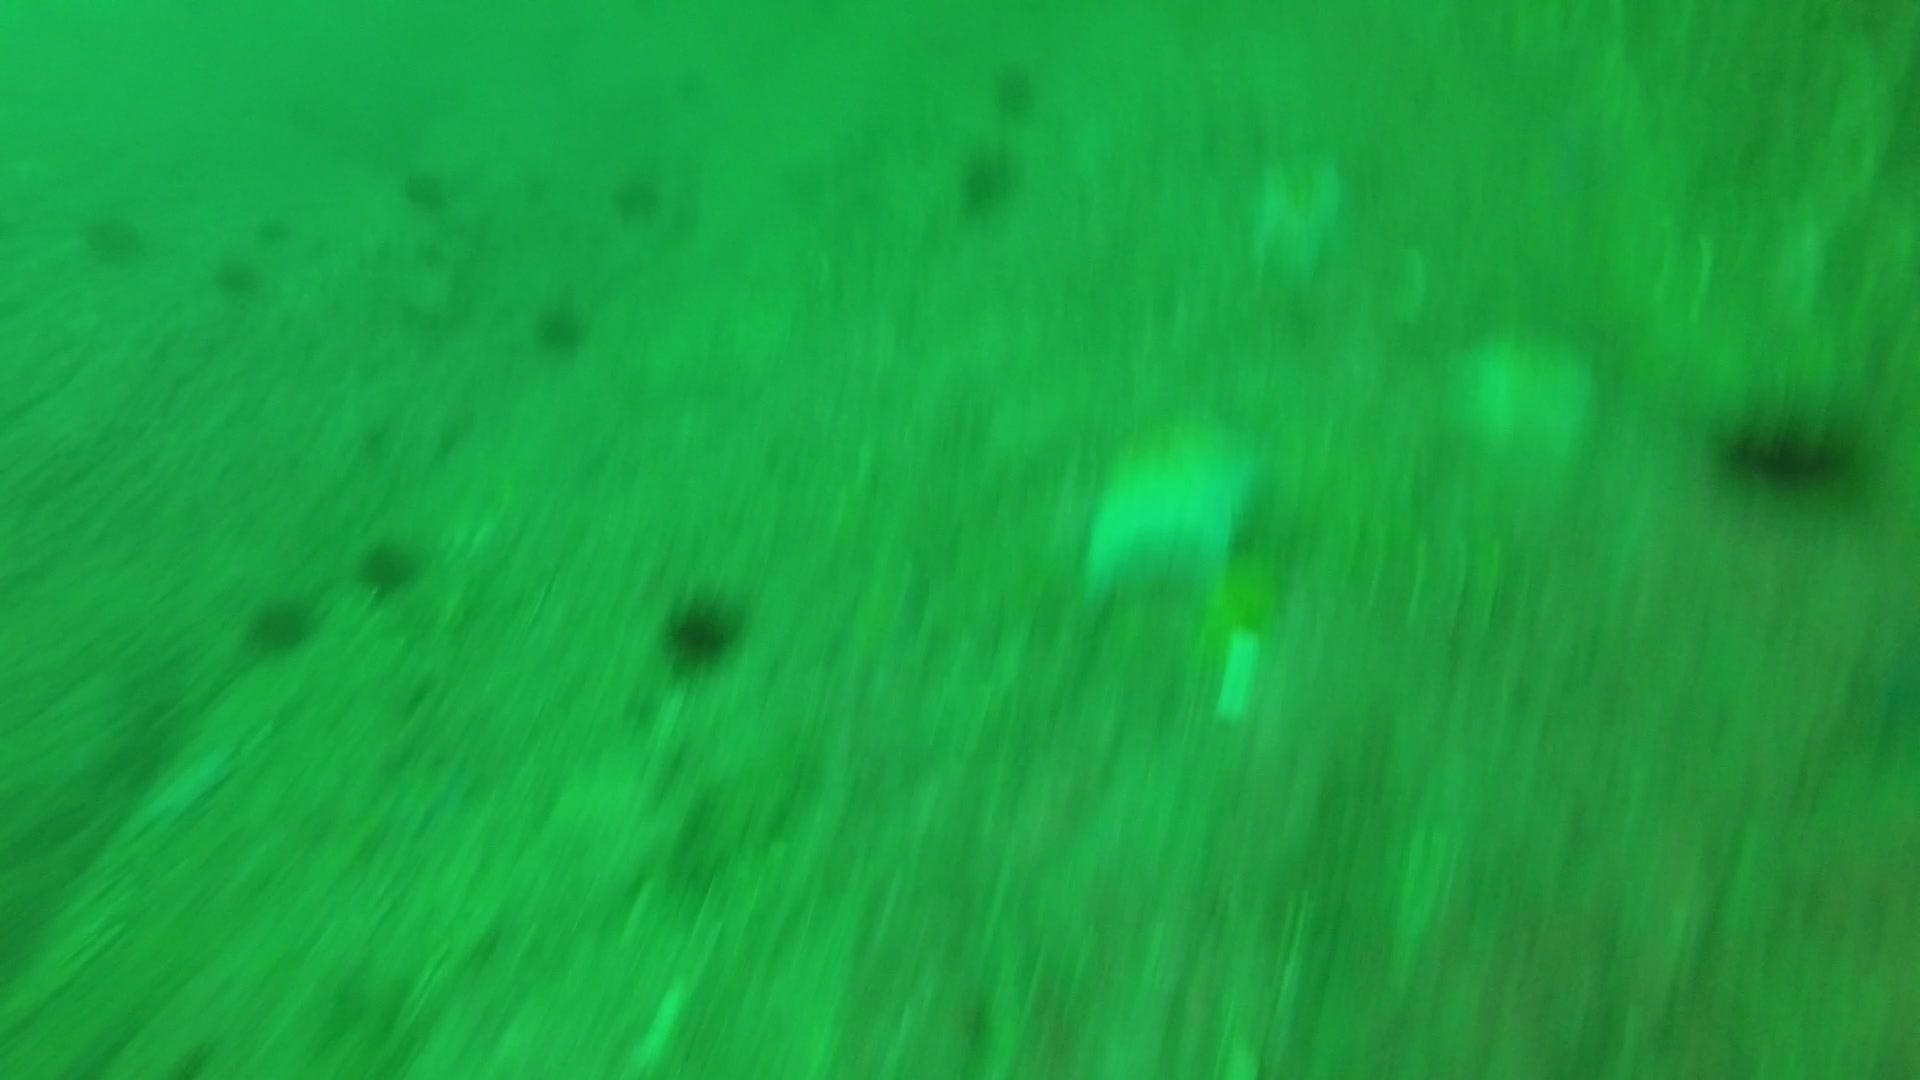echinus: (1712, 396, 1869, 501), (655, 584, 748, 676), (243, 589, 320, 657), (952, 142, 1023, 215), (353, 531, 427, 599), (76, 204, 149, 268), (529, 295, 593, 357), (985, 58, 1046, 120), (607, 164, 669, 224), (396, 162, 456, 216), (208, 251, 268, 302)
starfish: (1065, 407, 1276, 611), (1437, 320, 1604, 472), (1236, 142, 1360, 291), (355, 745, 485, 855), (827, 558, 935, 688), (117, 737, 240, 844)
